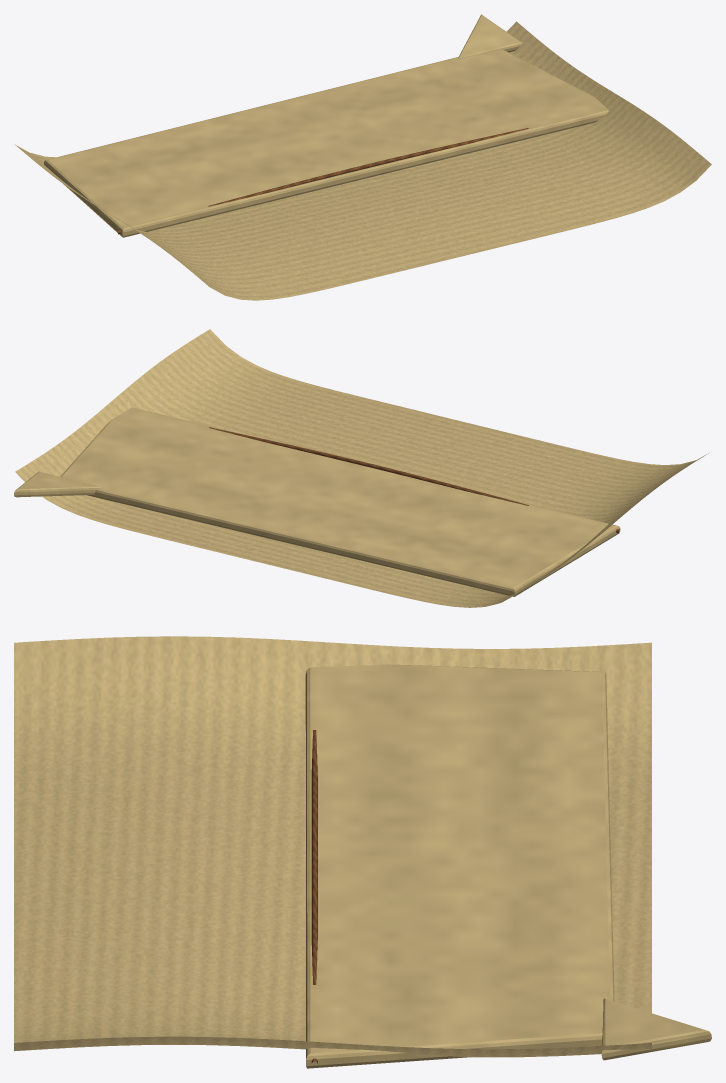
File: parchment-note.glb
3 views of the same model, one above another, from view 1: azimuth 30°, elevation 25°; view 2: azimuth 150°, elevation 25°; view 3: azimuth 270°, elevation 25° (orthographic). The views are drawn at different scales.
Visible parts, largest first — view 1: parchment-note; view 2: parchment-note; view 3: parchment-note.
Boxes of the visible parts, left/top/right/bottom form: parchment-note: left=15, top=14, right=711, bottom=300; parchment-note: left=14, top=329, right=708, bottom=607; parchment-note: left=14, top=636, right=711, bottom=1068.
Size of the model in its own units: 0.19 by 0.014 by 0.14.
Materials: 4 (3 with a texture image).
